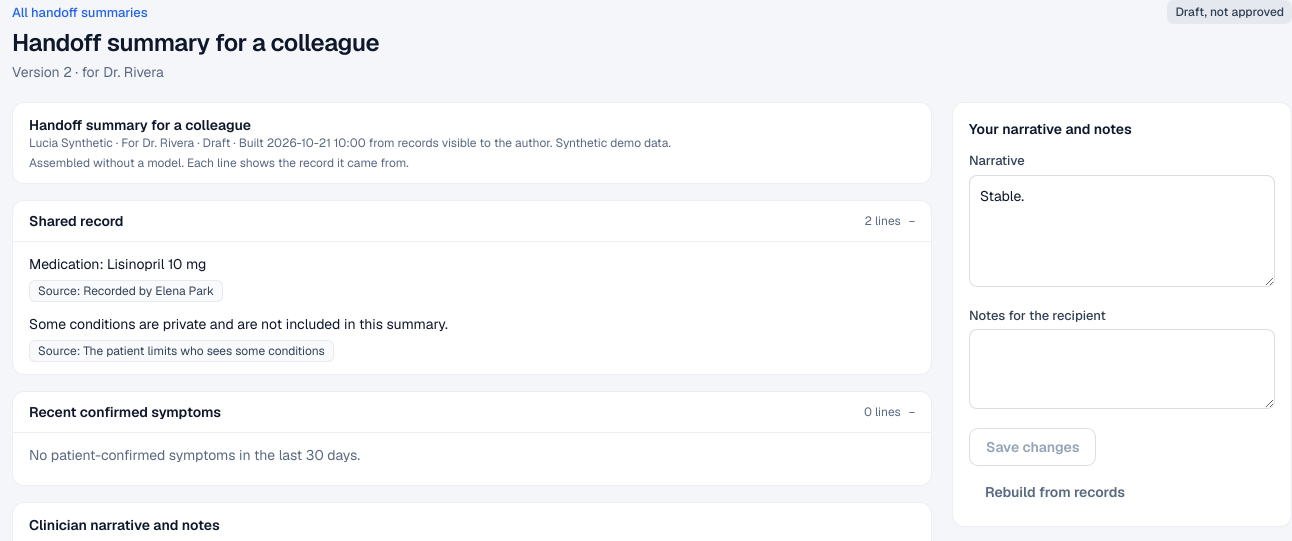
Test: HandoffSummaryReview › explains a version conflict instead of overwriting
Step 1. Replace the text in the text box labelled "Narrative" with "Other" → (1122, 230), box [969,174,1275,286]
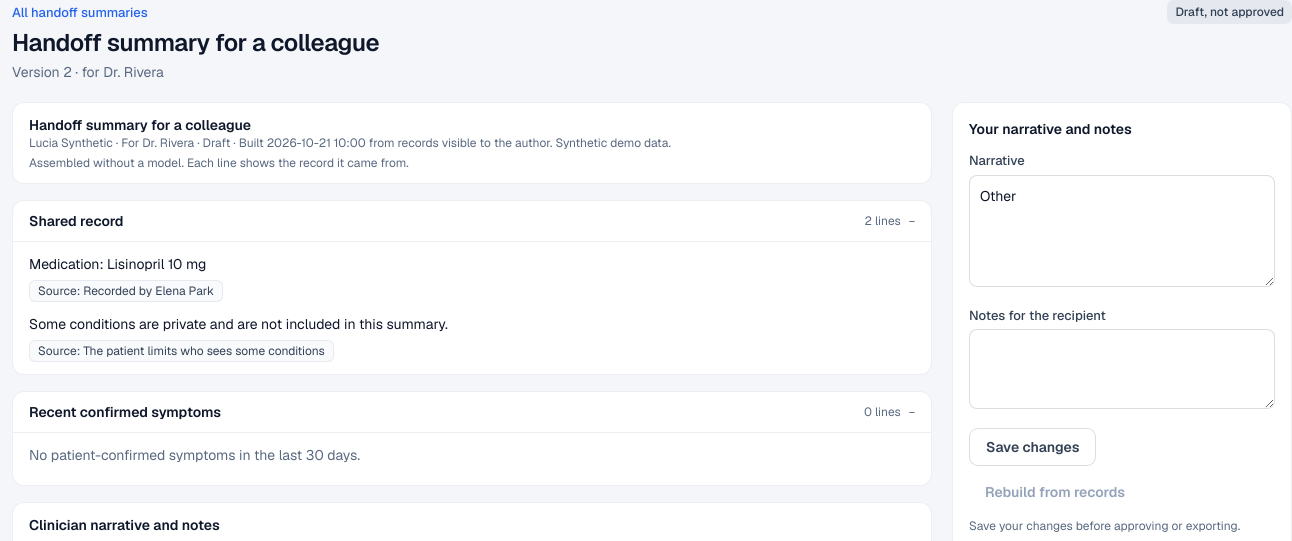
Step 2. Click the button "Save changes" → (1033, 447), box [969,428,1096,466]
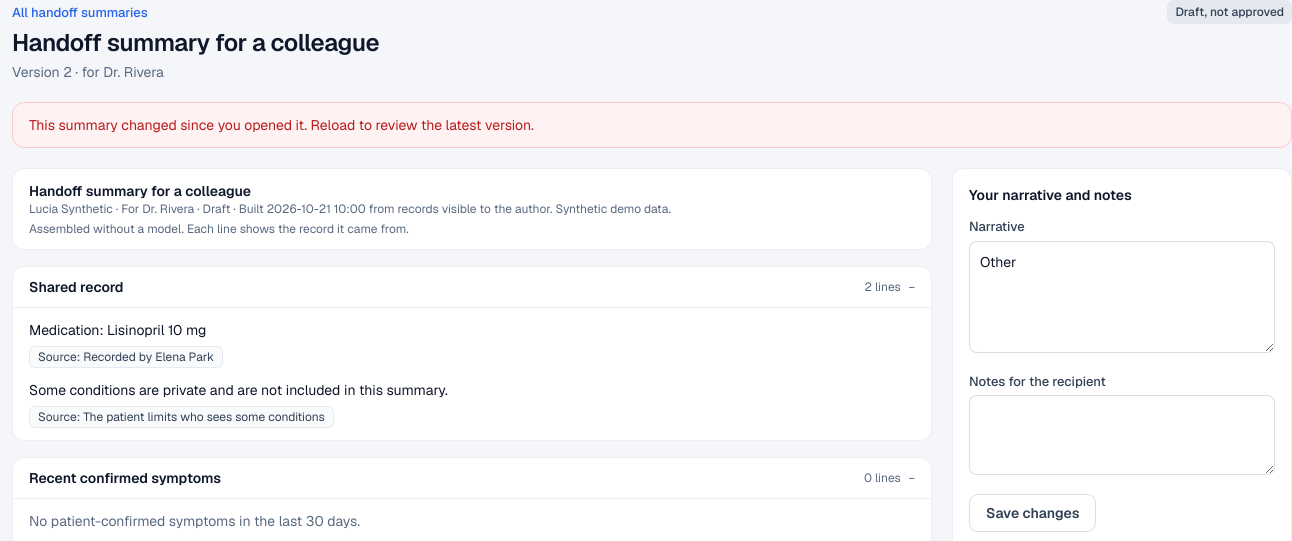
Result: the text "This summary changed since you opened it. Reload to review the latest version." is shown at [12,102,1291,148]
